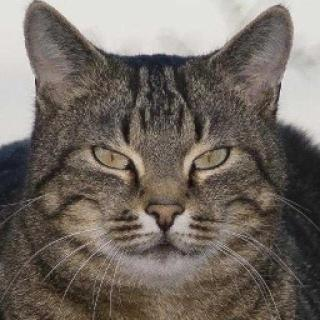cat: (22, 0, 294, 292)
nose: (138, 180, 194, 235)
